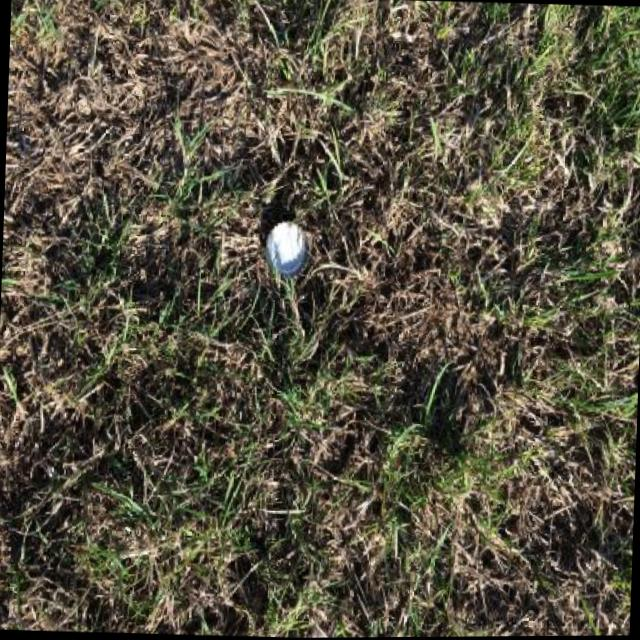metal: (263, 220, 311, 280)
